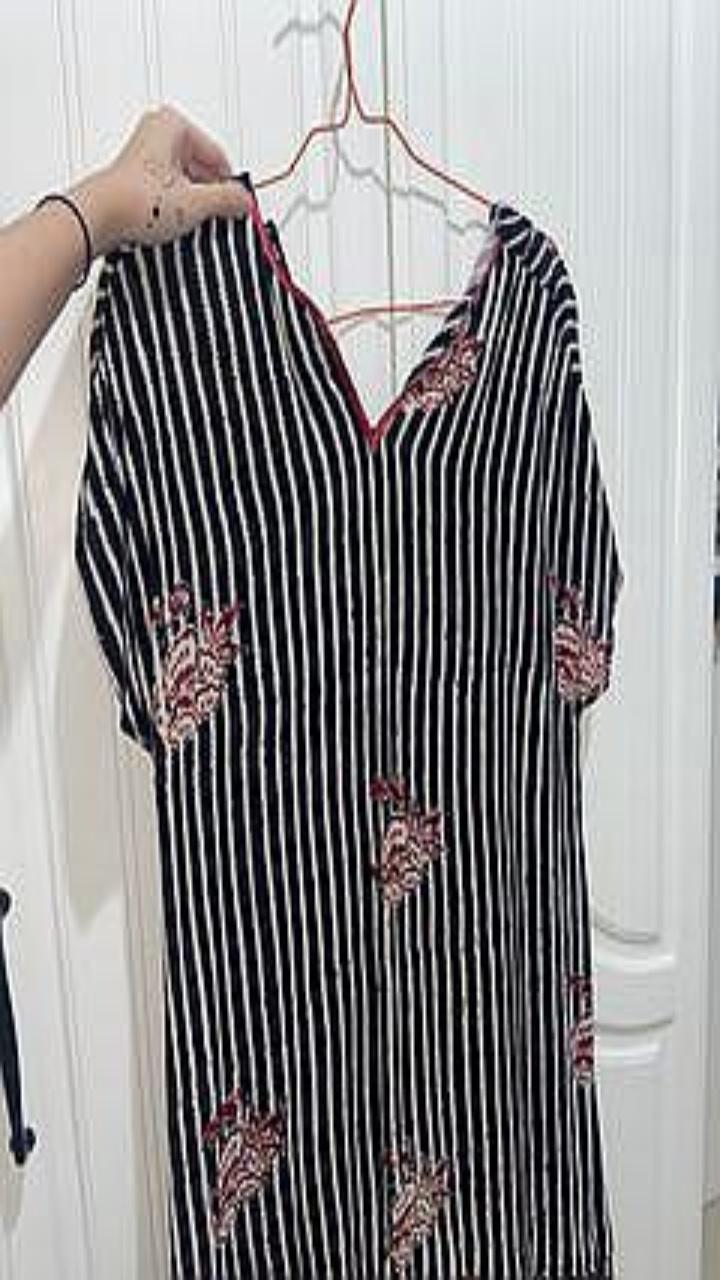Dresses: (75, 174, 622, 1279)
